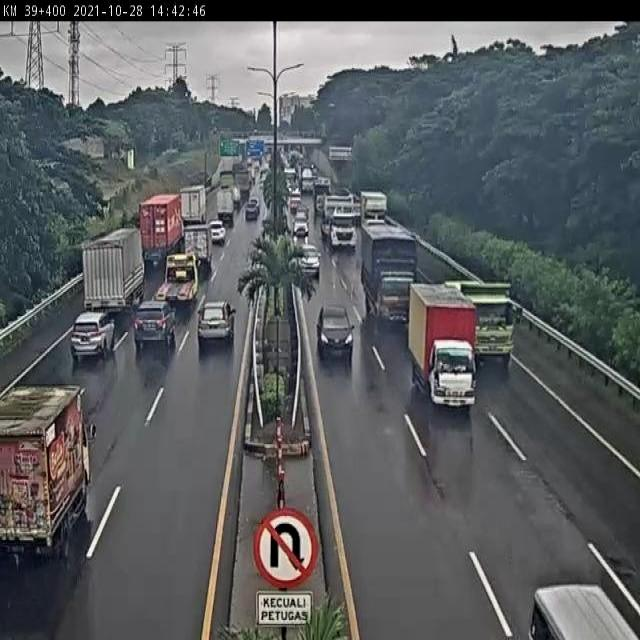Car: (129, 300, 176, 353), (70, 310, 116, 361), (316, 303, 354, 363), (197, 299, 235, 345), (294, 244, 321, 278), (293, 209, 309, 236), (209, 220, 226, 245), (288, 188, 302, 213), (245, 198, 260, 220), (285, 180, 294, 198)
Truck: (0, 384, 91, 559), (409, 284, 479, 406), (458, 269, 522, 361), (359, 221, 415, 322), (82, 228, 144, 317), (139, 192, 184, 268), (156, 252, 199, 309), (180, 223, 214, 279), (179, 185, 207, 229), (322, 194, 357, 227), (360, 190, 387, 224), (217, 188, 236, 225), (235, 169, 252, 202), (301, 168, 314, 194)
